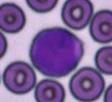M: (29, 27, 83, 77)
